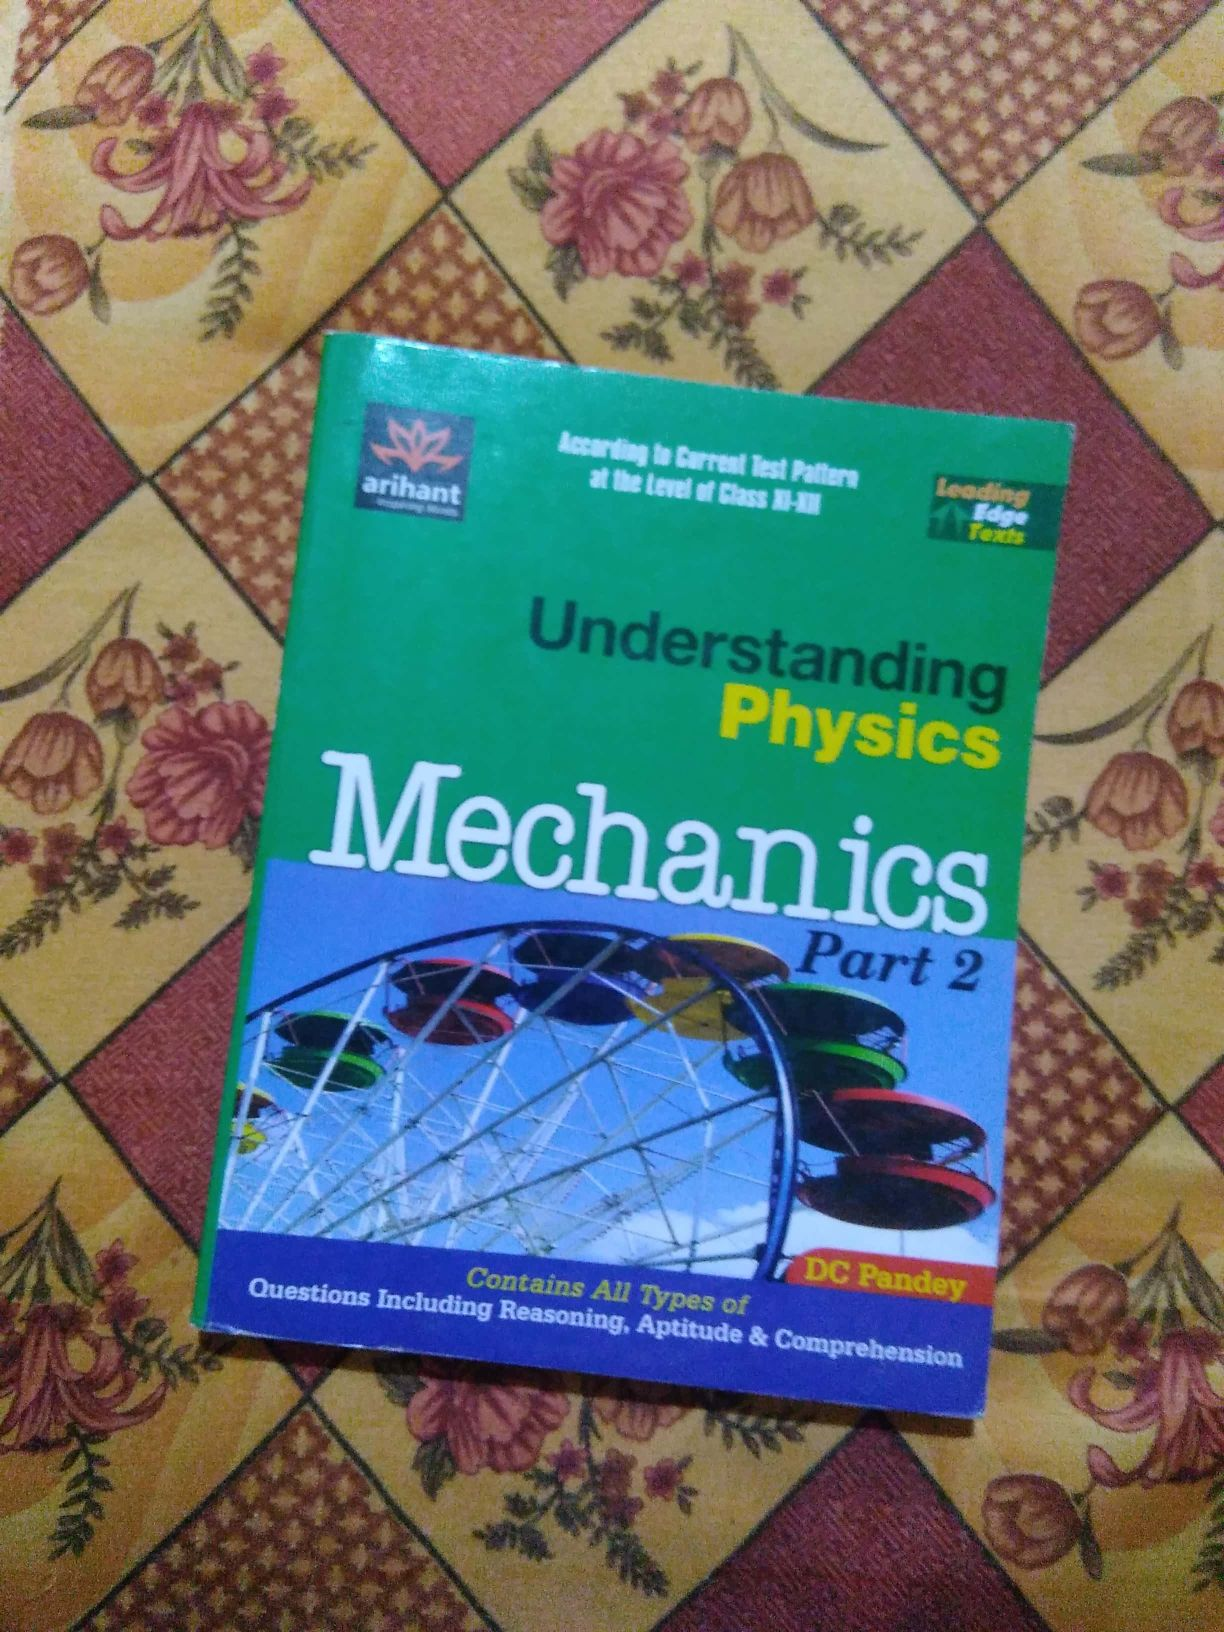mechanics: (166, 321, 1128, 1434)
